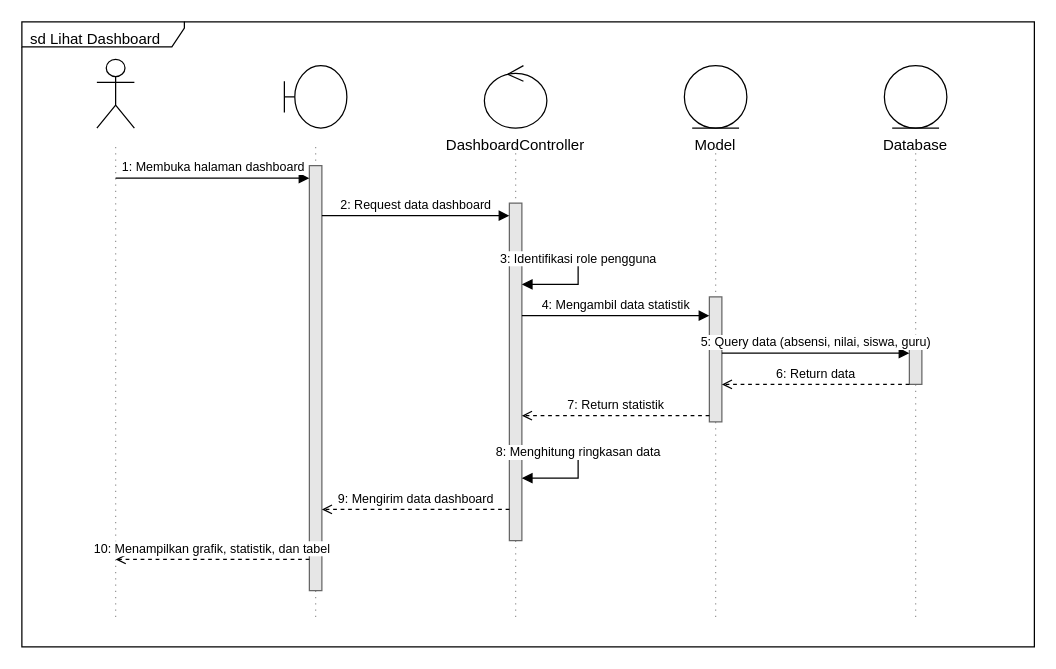
The diagram is 1056 pixels wide and 669 high, and some of its shapes have lost their labels. Here are the shapes that lost their labels. From the top down, the centre of each, then its label:
At point (115, 93): "Pengguna".
At point (315, 96): "Halaman Dashboard".
